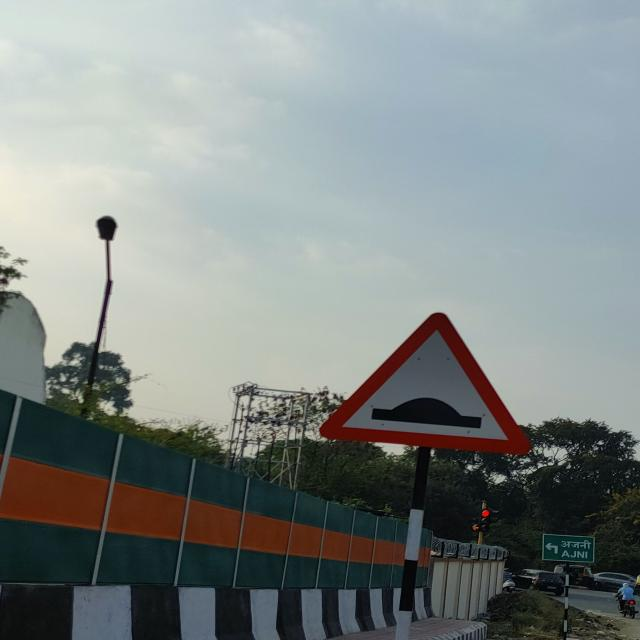horn_prohibited: (321, 311, 529, 455)
